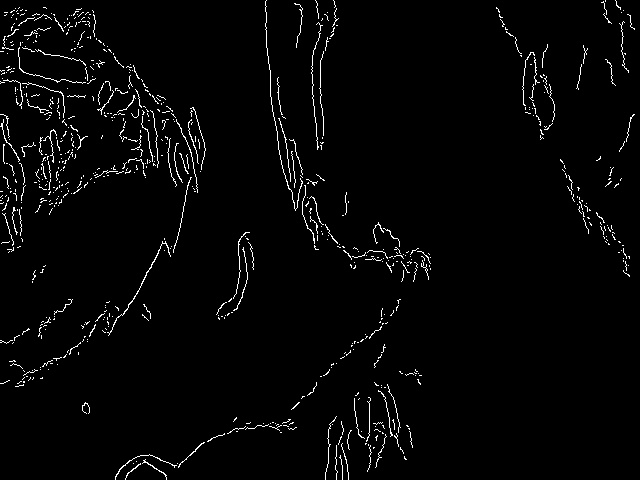red_onion: (1, 2, 208, 402), (253, 3, 467, 283)
